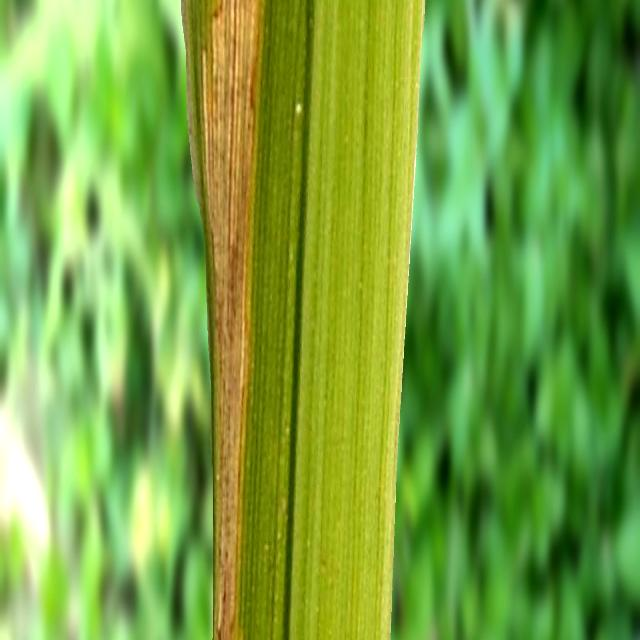BLS: (202, 0, 260, 640)
